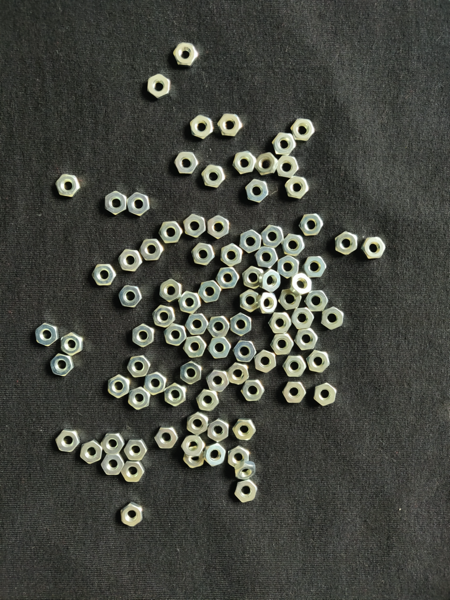nut: (173, 42, 199, 67), (55, 429, 81, 453), (147, 74, 171, 99), (202, 164, 226, 189), (56, 174, 81, 198), (190, 115, 214, 139), (273, 132, 297, 156), (143, 372, 167, 396), (35, 323, 59, 347), (290, 118, 315, 141), (285, 176, 310, 199), (128, 192, 151, 217), (361, 237, 386, 260), (183, 214, 206, 239), (306, 350, 331, 373), (50, 354, 75, 377), (128, 386, 151, 411), (255, 152, 278, 176), (246, 179, 269, 203), (159, 221, 183, 244), (239, 230, 262, 254), (281, 234, 305, 257), (160, 279, 183, 303), (198, 280, 222, 303), (152, 305, 176, 328), (164, 323, 187, 347), (132, 324, 155, 348), (295, 328, 319, 351), (233, 340, 257, 363), (254, 350, 277, 374), (314, 383, 337, 407), (206, 370, 230, 393), (61, 333, 84, 357), (232, 418, 256, 441), (234, 480, 258, 503), (80, 440, 103, 464), (174, 152, 199, 174), (299, 214, 324, 236), (336, 231, 358, 256), (92, 264, 117, 286), (139, 239, 164, 261), (208, 215, 230, 240), (118, 286, 143, 308), (282, 382, 307, 404), (126, 356, 151, 378), (154, 427, 179, 449), (121, 503, 143, 528), (218, 114, 244, 135), (261, 225, 284, 248), (192, 243, 215, 266), (277, 256, 300, 279), (178, 291, 201, 314), (289, 273, 312, 296), (321, 307, 344, 330), (207, 315, 230, 338), (186, 412, 209, 435), (105, 191, 127, 215), (119, 250, 143, 272), (216, 267, 240, 289), (259, 269, 281, 293), (279, 289, 303, 311), (291, 308, 315, 330), (230, 313, 252, 337), (185, 314, 209, 336), (183, 336, 207, 358), (283, 355, 307, 377), (180, 361, 202, 385), (165, 383, 187, 407), (196, 389, 220, 411), (204, 443, 226, 467), (124, 439, 148, 461), (109, 374, 130, 399), (100, 433, 125, 454), (277, 155, 299, 178), (233, 151, 256, 173), (221, 244, 243, 267), (255, 246, 278, 268), (271, 334, 294, 356), (242, 380, 265, 402), (227, 362, 249, 385), (303, 257, 327, 278), (243, 266, 264, 290), (305, 291, 329, 312), (207, 338, 231, 359), (208, 418, 229, 442), (121, 462, 145, 483), (269, 313, 292, 334), (184, 446, 205, 469), (101, 455, 125, 475), (229, 446, 250, 468), (182, 436, 205, 456), (257, 292, 277, 314), (240, 290, 259, 313), (235, 461, 256, 480)
